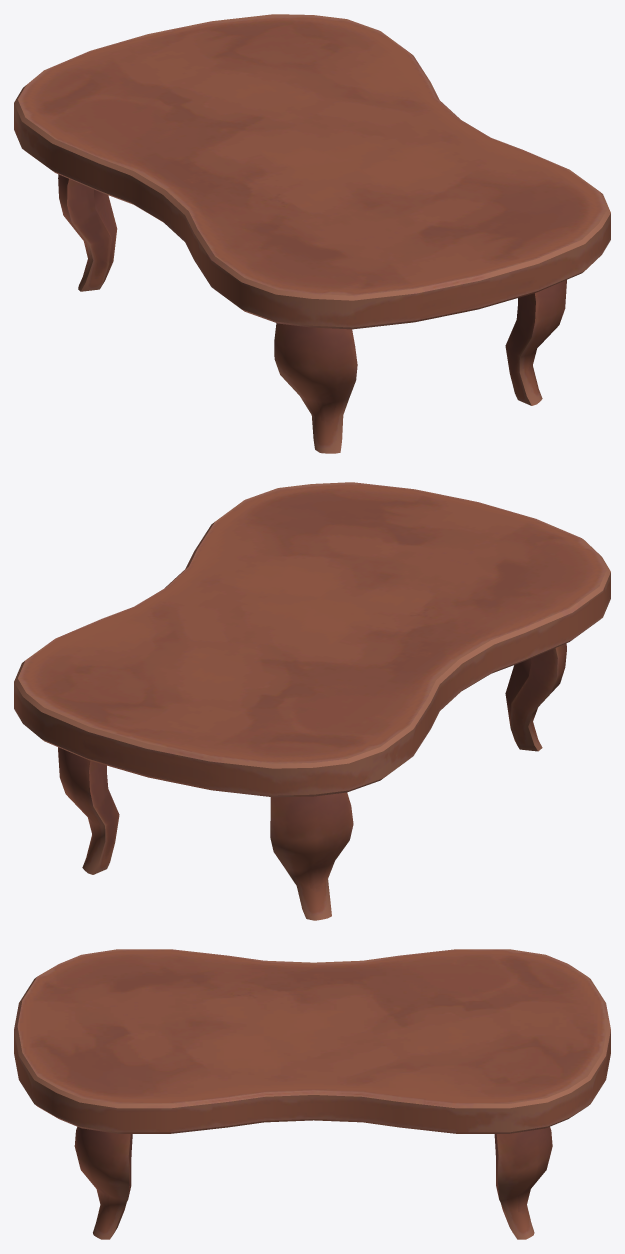
File: CoffeeTable.fbx
3 renders of one model, top to bottom at view 1: azimuth 30°, elevation 25°; view 2: azimuth 150°, elevation 25°; view 3: azimuth 270°, elevation 25°, orthographic. The views are drawn at different scales.
Visible parts, largest first — view 1: tableLeg3; view 2: tableLeg3; view 3: tableLeg3.
Boxes of the visible parts, x1=… form: tableLeg3: x1=14, y1=14, x2=610, y2=453; tableLeg3: x1=14, y1=482, x2=610, y2=920; tableLeg3: x1=14, y1=949, x2=610, y2=1239.
Bounding box in the file's own units: 817 × 398 × 1308.
